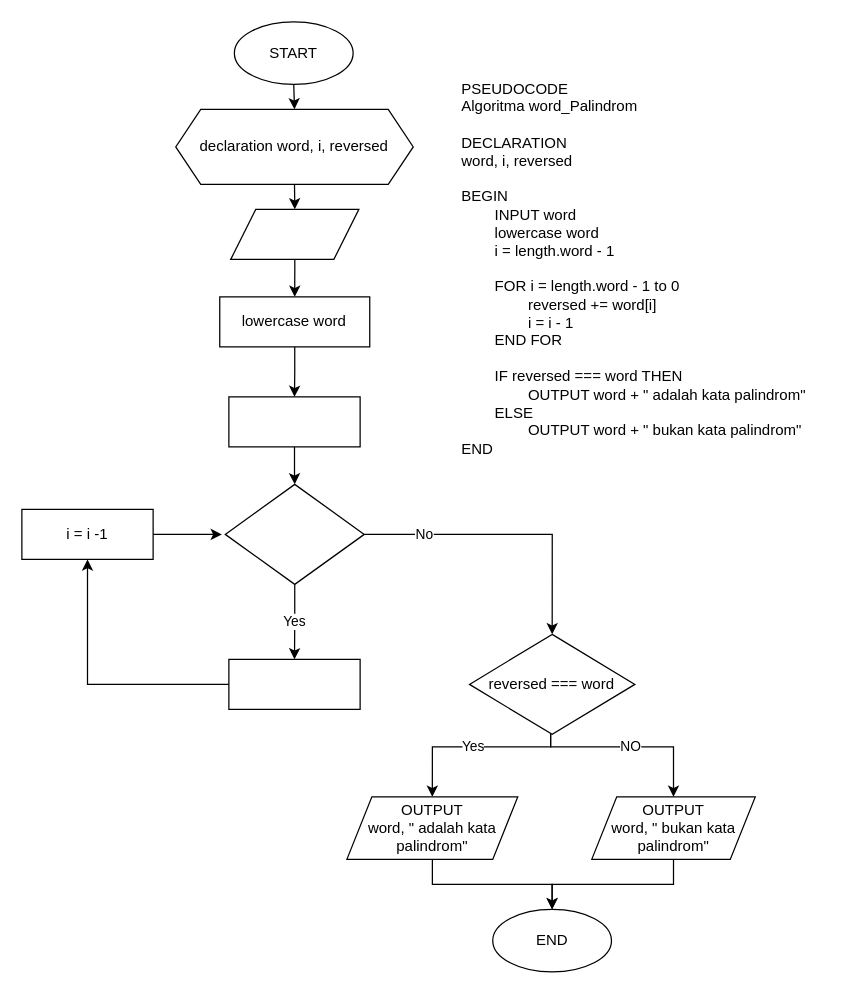
Image size: 856x994. Some labels were removed from this diagram. The shapes that lost their labels are listed below. From the top down, each one's centre as x and y in pixels, then its label:
At (294,233): "INPUT word".
At (294,421): "i = length.word - 1".
At (294,533): "i >= 0".
At (294,683): "reversed += word[i]".
